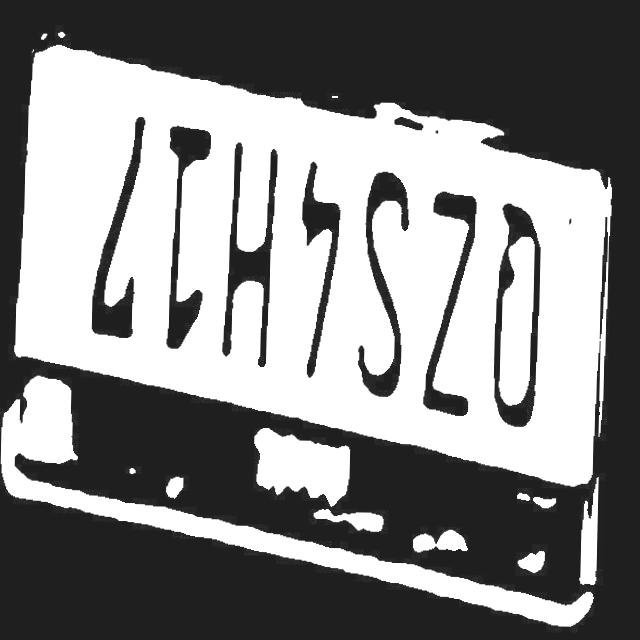1: (164, 125, 214, 351)
4: (298, 160, 345, 379)
7: (91, 115, 150, 338)
h: (222, 140, 282, 367)
q: (494, 201, 545, 428)
s: (358, 169, 414, 398)
z: (423, 189, 478, 417)
